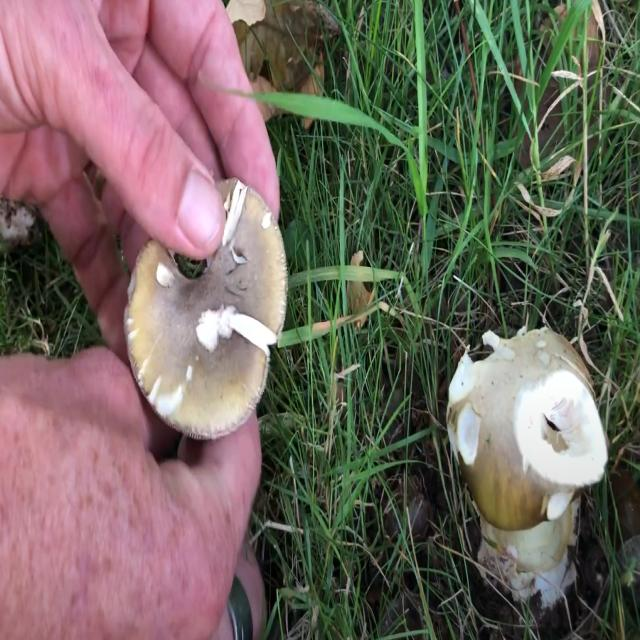death-cap: (445, 327, 610, 624), (121, 178, 289, 444)
